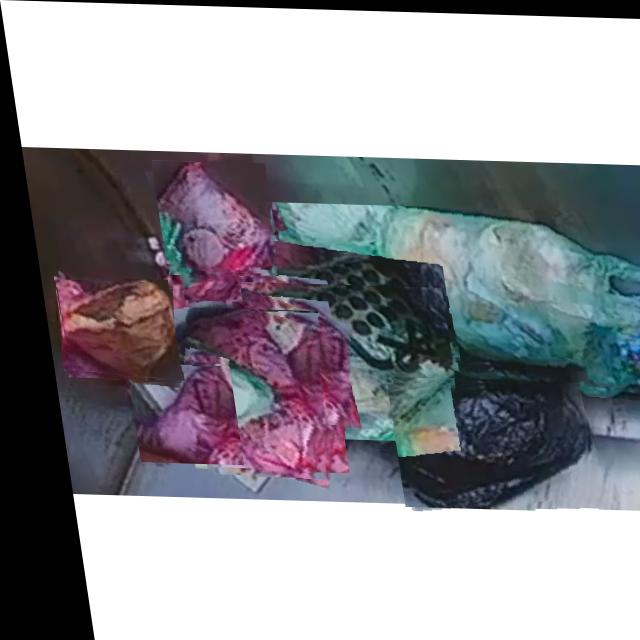general_trashbag: (252, 201, 640, 388), (223, 283, 442, 431)
other_trashbag: (383, 379, 574, 506), (177, 308, 312, 476), (152, 161, 268, 272), (52, 282, 165, 378), (131, 366, 223, 463), (175, 275, 230, 299)
